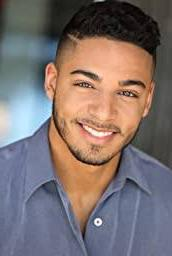Sober: (60, 47, 143, 155)
